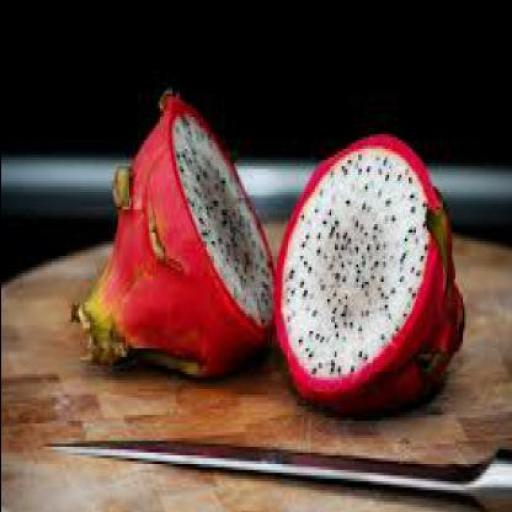biodegradable: (70, 84, 276, 376), (274, 127, 466, 411)
metal: (40, 437, 510, 512)
